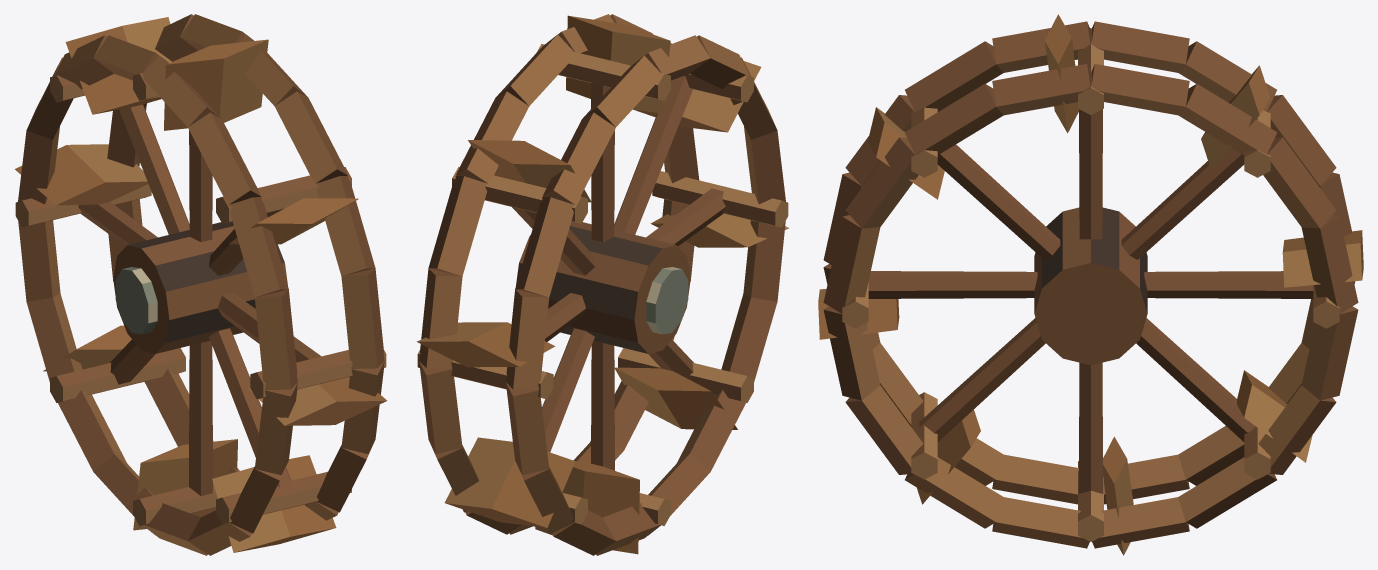
The model's file is waterwheel.glb.
3 views of the same model, side by side, from view 1: azimuth 30°, elevation 25°; view 2: azimuth 150°, elevation 25°; view 3: azimuth 270°, elevation 25° (orthographic).
Visible parts, largest first — view 1: WaterWheel; view 2: WaterWheel; view 3: WaterWheel.
Part boxes in pixels (left/top/right/bottom): WaterWheel: left=14, top=14, right=387, bottom=555; WaterWheel: left=417, top=14, right=788, bottom=555; WaterWheel: left=818, top=14, right=1363, bottom=555.
Size of the model in its own units: 0.482 by 1.74 by 1.74.
